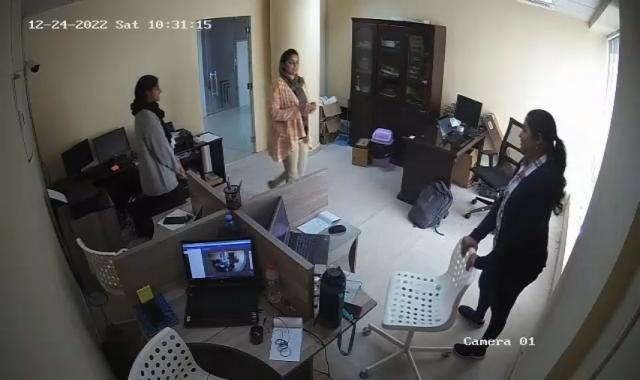no_hairnet: (517, 110, 556, 154), (134, 72, 162, 104), (282, 48, 300, 76)
